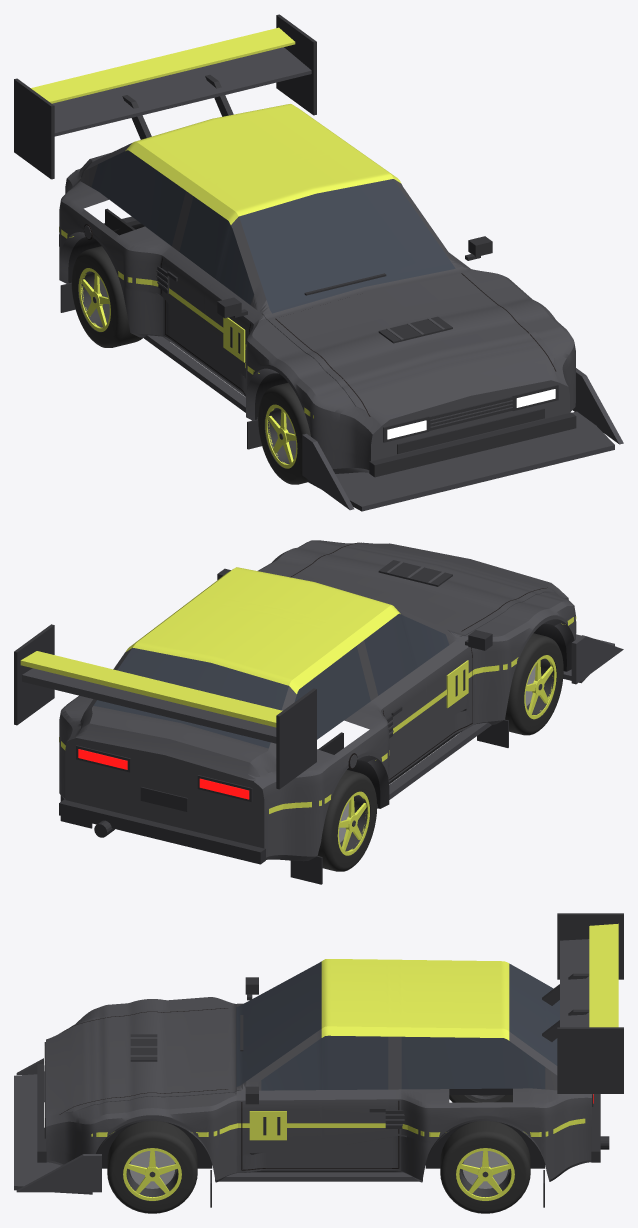
The model's file is modern-rally.glb.
The picture shows the model from 3 angles, top to bottom: view 1: azimuth 30°, elevation 25°; view 2: azimuth 150°, elevation 25°; view 3: azimuth 270°, elevation 25°; orthographic projection. The views are drawn at different scales.
Parts seen in each view (by area): view 1: Body, Wheel_RR, Wheel_FR; view 2: Body, Wheel_FR, Wheel_RR; view 3: Body, Wheel_FL, Wheel_RL, Wheel_RR.
Boxes of the visible parts, box(x1,y1,x2,y2) form: Body: box(14, 14, 623, 511); Wheel_RR: box(71, 246, 142, 347); Wheel_FR: box(258, 383, 310, 484); Body: box(14, 540, 623, 884); Wheel_FR: box(505, 633, 563, 735); Wheel_RR: box(317, 770, 377, 871); Body: box(14, 913, 623, 1207); Wheel_FL: box(107, 1121, 197, 1213); Wheel_RL: box(440, 1121, 530, 1213); Wheel_RR: box(449, 1095, 512, 1102).
Bounding box in the file's own units: 2.12 × 1.56 × 4.58.
